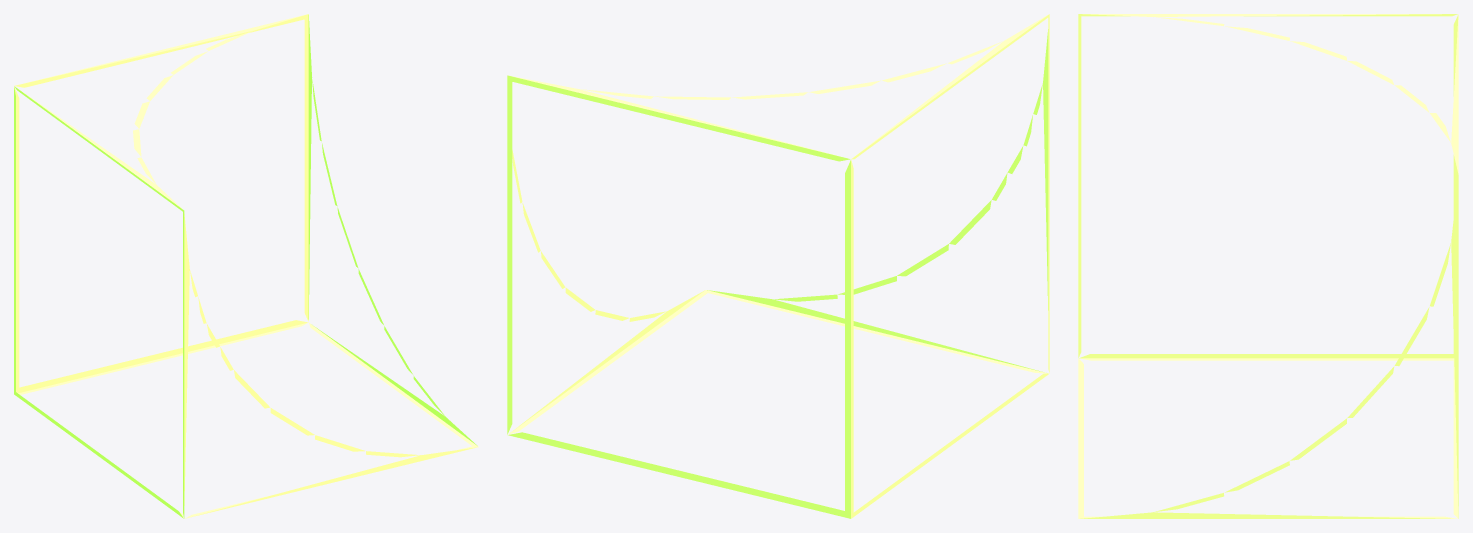
File: r4c2_highlight_green.glb
3 renders of one model, left to right at view 1: azimuth 30°, elevation 25°; view 2: azimuth 150°, elevation 25°; view 3: azimuth 270°, elevation 25°, orthographic. The views are drawn at different scales.
Visible parts, largest first — view 1: r4c2_highlight_green; view 2: r4c2_highlight_green; view 3: r4c2_highlight_green.
Boxes of the visible parts, left/top/right/bottom form: r4c2_highlight_green: left=14, top=14, right=478, bottom=518; r4c2_highlight_green: left=507, top=14, right=1049, bottom=518; r4c2_highlight_green: left=1078, top=14, right=1458, bottom=518.
Bounding box in the file's own units: 2 × 2 × 2.
